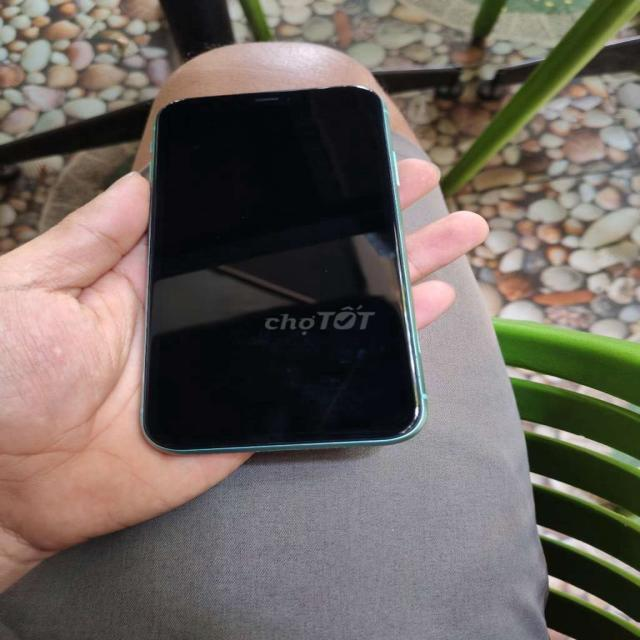scratch: (290, 334, 368, 435)
